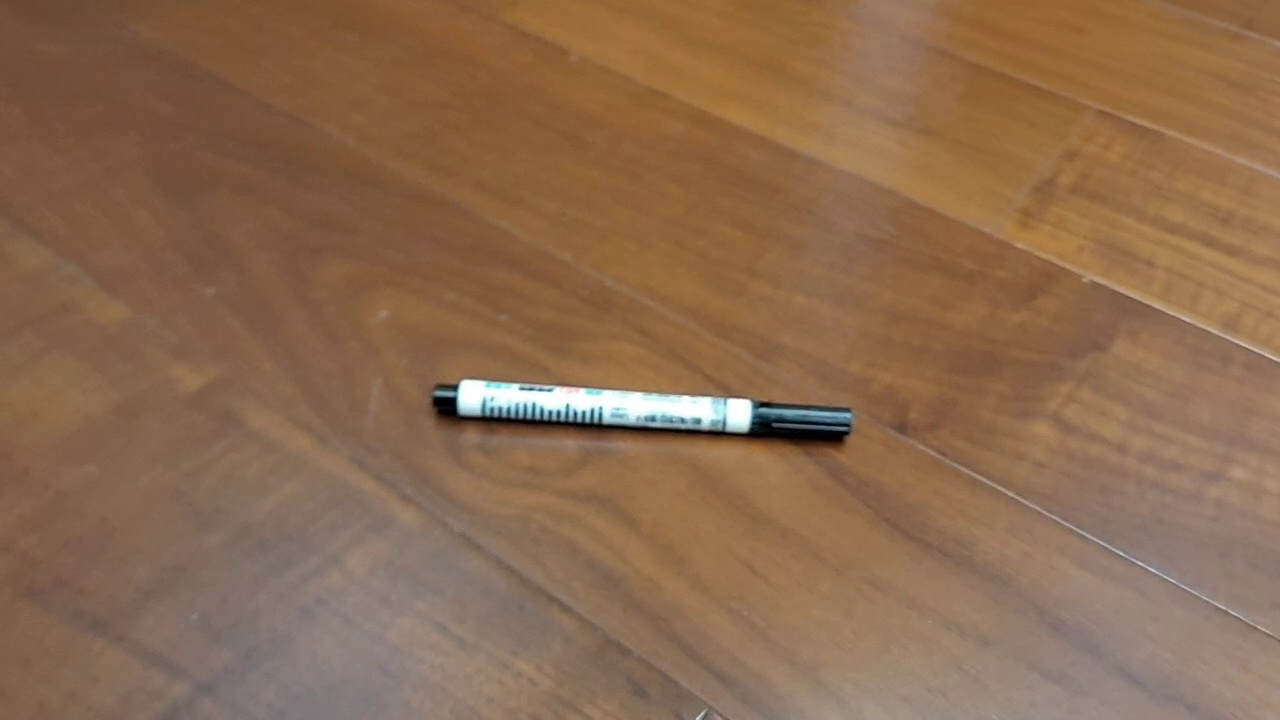pen: (431, 377, 854, 442)
